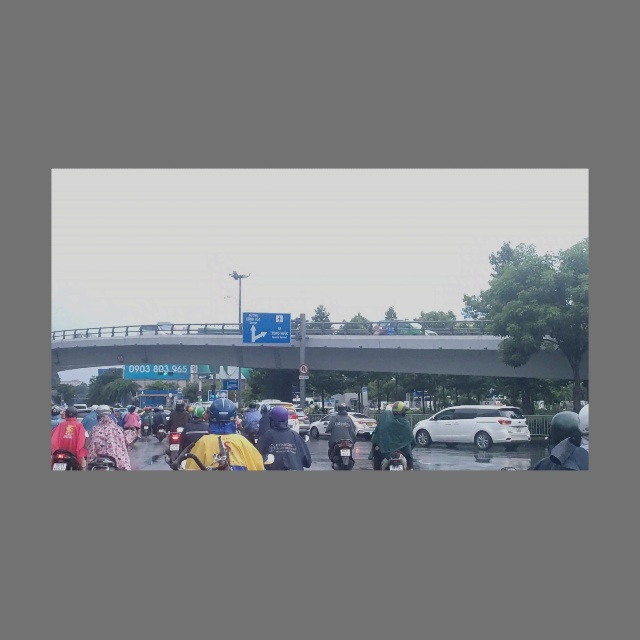P.124b1: (297, 363, 310, 377)
